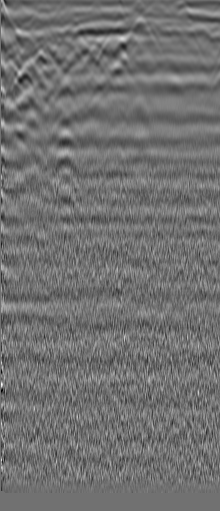오수: (19, 9, 39, 29)
우수: (165, 21, 185, 41)
